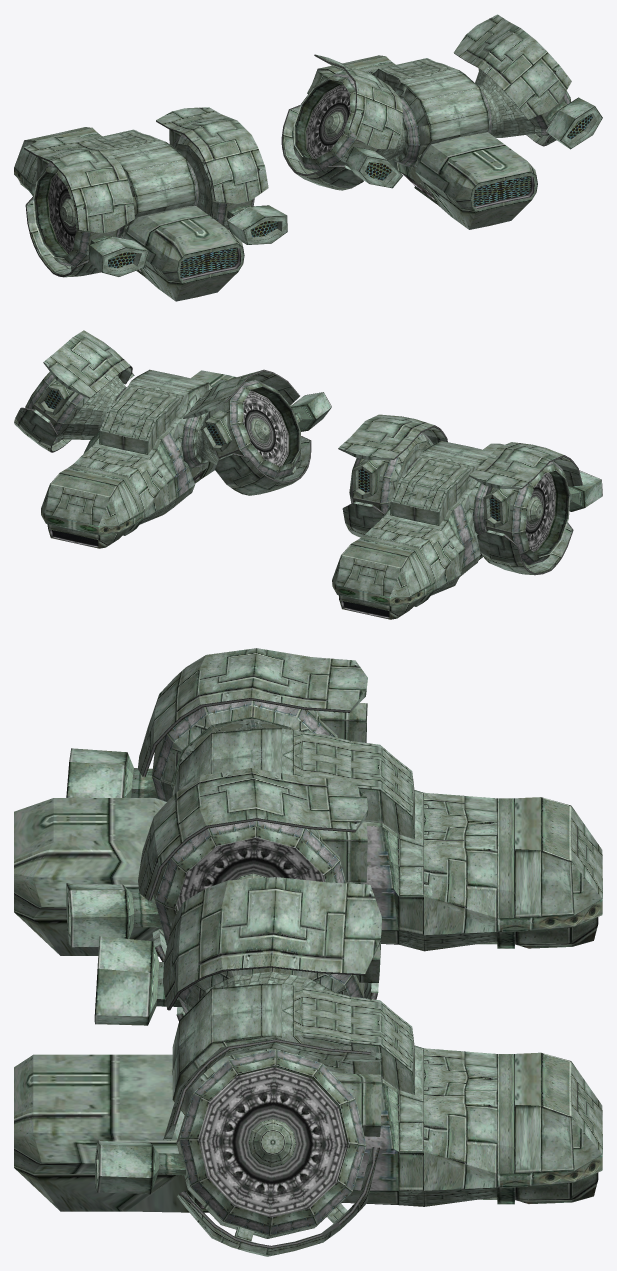
The model's file is ymir larger wip.obj.
3 views of the same model, one above another, from view 1: azimuth 30°, elevation 25°; view 2: azimuth 150°, elevation 25°; view 3: azimuth 270°, elevation 25° (orthographic). The views are drawn at different scales.
Visible parts, largest first — view 1: polySurface1_polySurface947, polySurface1_polySurface947.001; view 2: polySurface1_polySurface947, polySurface1_polySurface947.001; view 3: polySurface1_polySurface947, polySurface1_polySurface947.001.
Boxes of the visible parts, x1,y1,x2,y2 form: polySurface1_polySurface947: (281, 14, 602, 229); polySurface1_polySurface947.001: (14, 107, 287, 301); polySurface1_polySurface947: (14, 330, 331, 548); polySurface1_polySurface947.001: (332, 414, 602, 619); polySurface1_polySurface947: (14, 877, 602, 1256); polySurface1_polySurface947.001: (14, 648, 602, 961).
Size of the model in its own units: 34.34 by 8.7 by 18.69.
4 materials, 4 textured.
